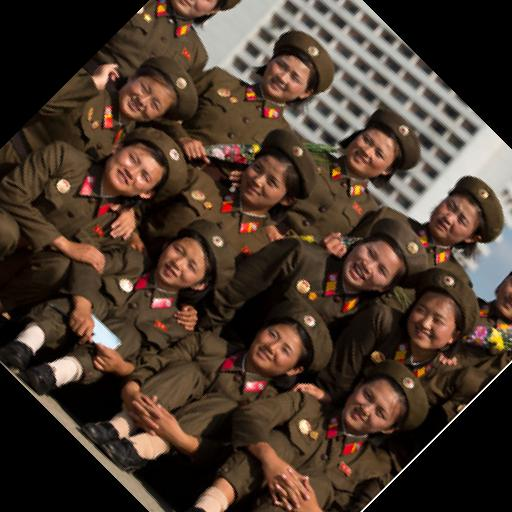north army: (60, 30, 480, 501)
